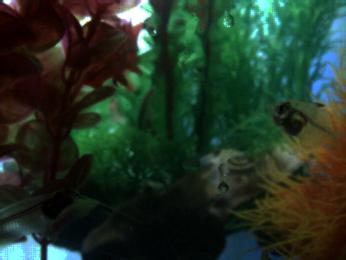X-ray fish: (266, 100, 346, 152)
glassfish: (1, 185, 72, 243)
